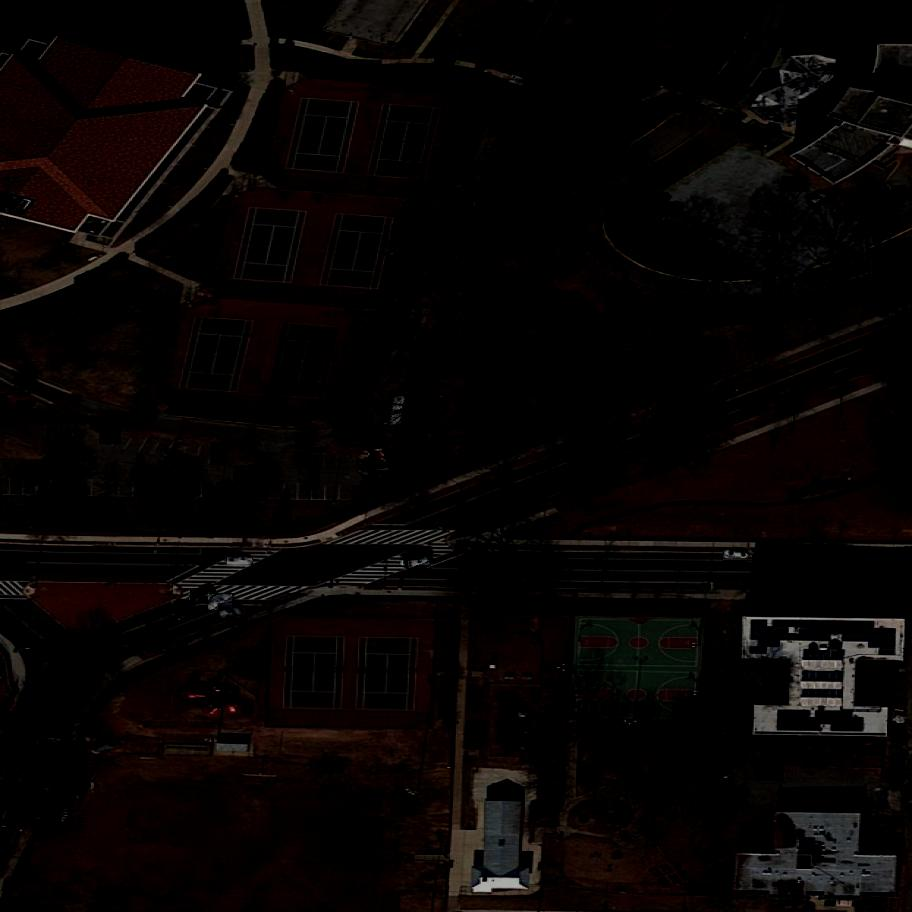large-vehicle: (388, 388, 412, 430)
small-vehicle: (646, 192, 670, 218), (190, 584, 216, 607), (782, 174, 809, 195), (208, 592, 233, 613), (753, 765, 785, 781), (515, 554, 545, 571), (99, 425, 121, 447), (403, 556, 431, 572), (808, 192, 831, 210), (210, 443, 227, 467), (661, 201, 684, 218), (831, 793, 850, 812), (722, 551, 752, 563), (218, 607, 246, 619), (891, 724, 907, 743), (815, 551, 840, 563), (720, 763, 734, 782), (892, 186, 906, 203), (848, 793, 860, 812), (17, 400, 31, 414), (891, 767, 903, 783), (228, 558, 252, 564)
